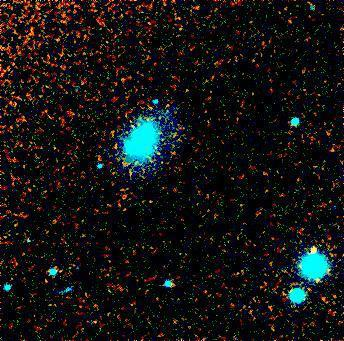star: (297, 234, 327, 264)
